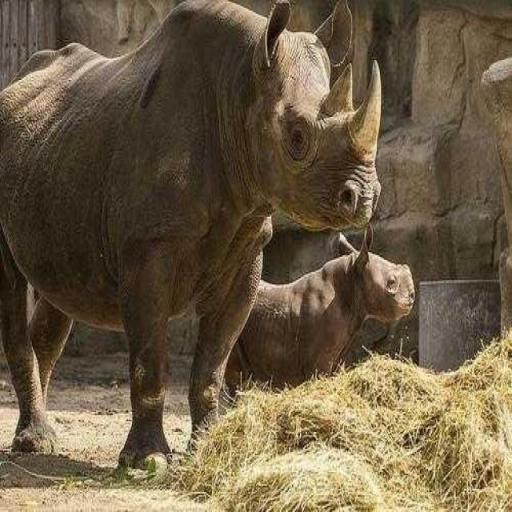Rhino: (0, 0, 381, 470), (222, 223, 414, 397)
